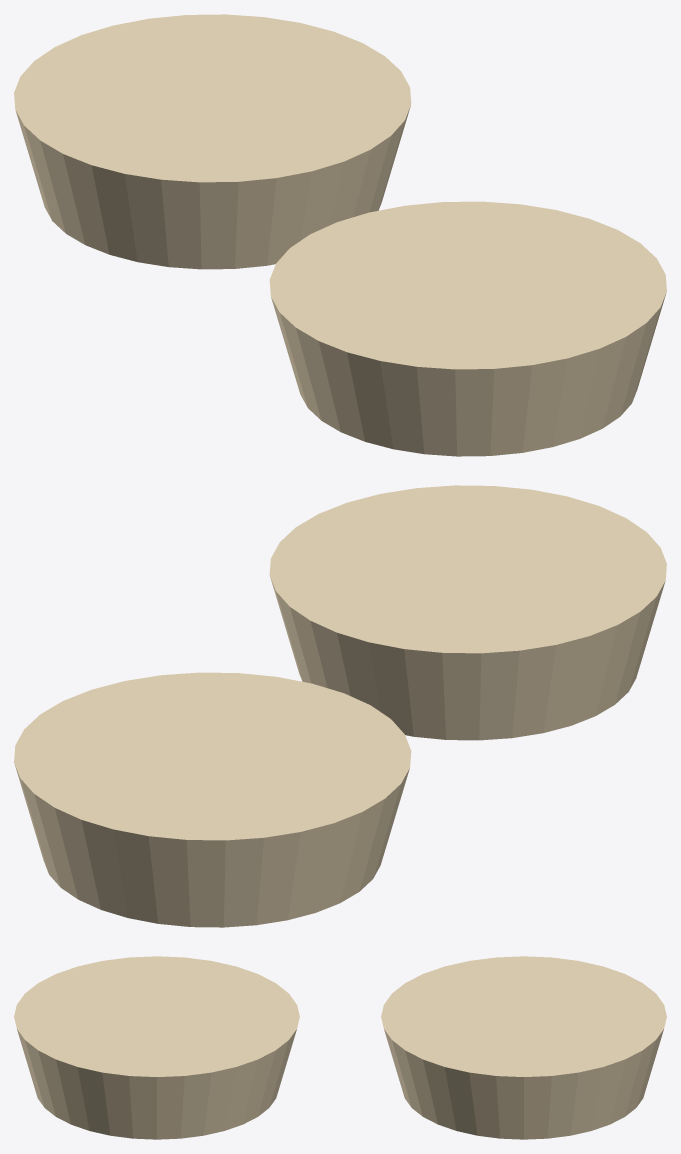
File: burntCK1.fbx
The picture shows the model from 3 angles, top to bottom: view 1: azimuth 30°, elevation 25°; view 2: azimuth 150°, elevation 25°; view 3: azimuth 270°, elevation 25°; orthographic projection. The views are drawn at different scales.
Visible parts, largest first — view 1: Cylinder.015, Cylinder.016; view 2: Cylinder.016, Cylinder.015; view 3: Cylinder.015, Cylinder.016.
Boxes of the visible parts, x1,y1,x2,y2 form: Cylinder.015: (269, 201, 666, 456); Cylinder.016: (14, 14, 411, 269); Cylinder.016: (14, 672, 411, 927); Cylinder.015: (269, 485, 666, 740); Cylinder.015: (14, 956, 299, 1139); Cylinder.016: (381, 956, 666, 1139).
Bounding box in the file's own units: 176 × 48.66 × 403.
